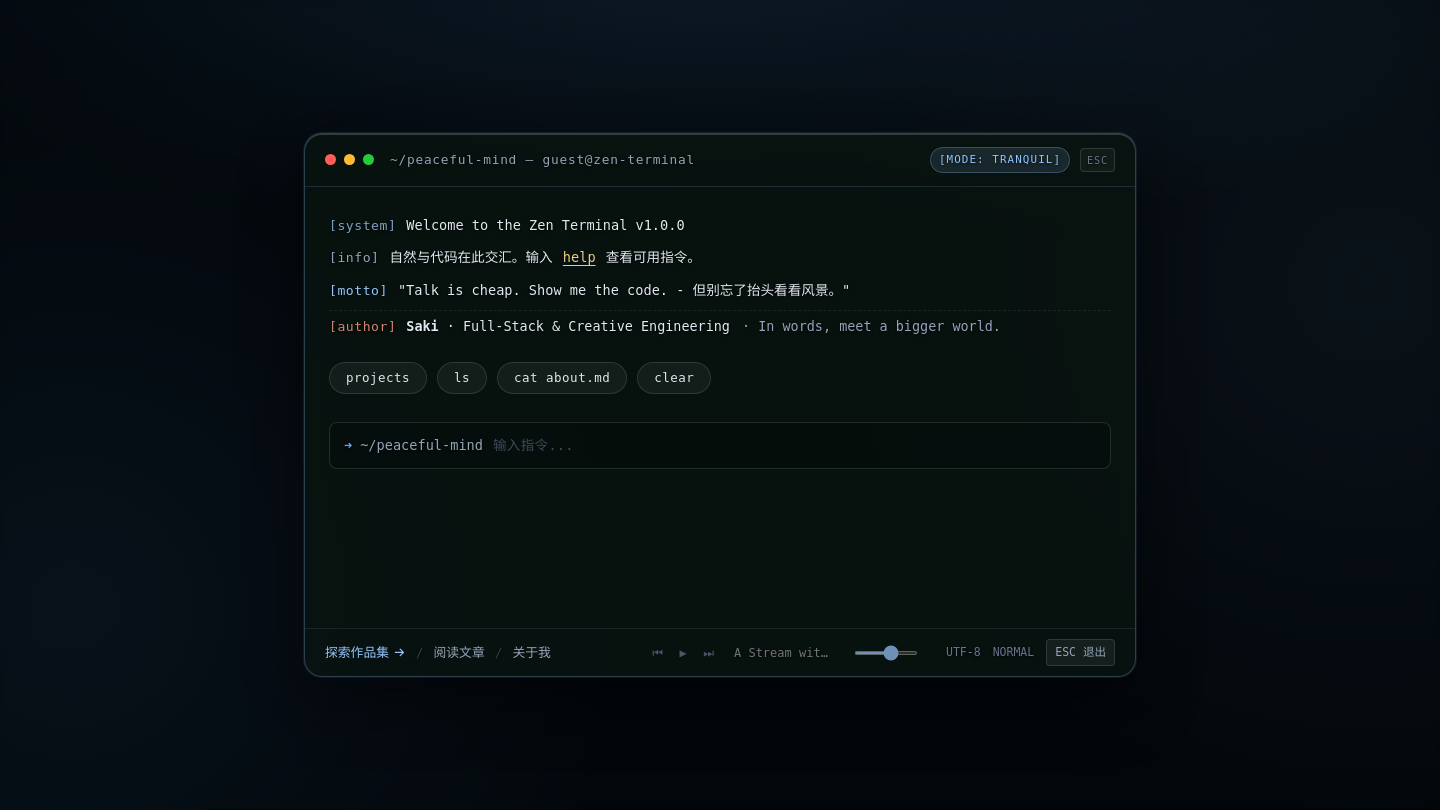
ZenTerminalModal › renders articles when ls command is executed
Type "ls" into the field with class "cli-field" at (794, 445), box [493,433,1096,458]
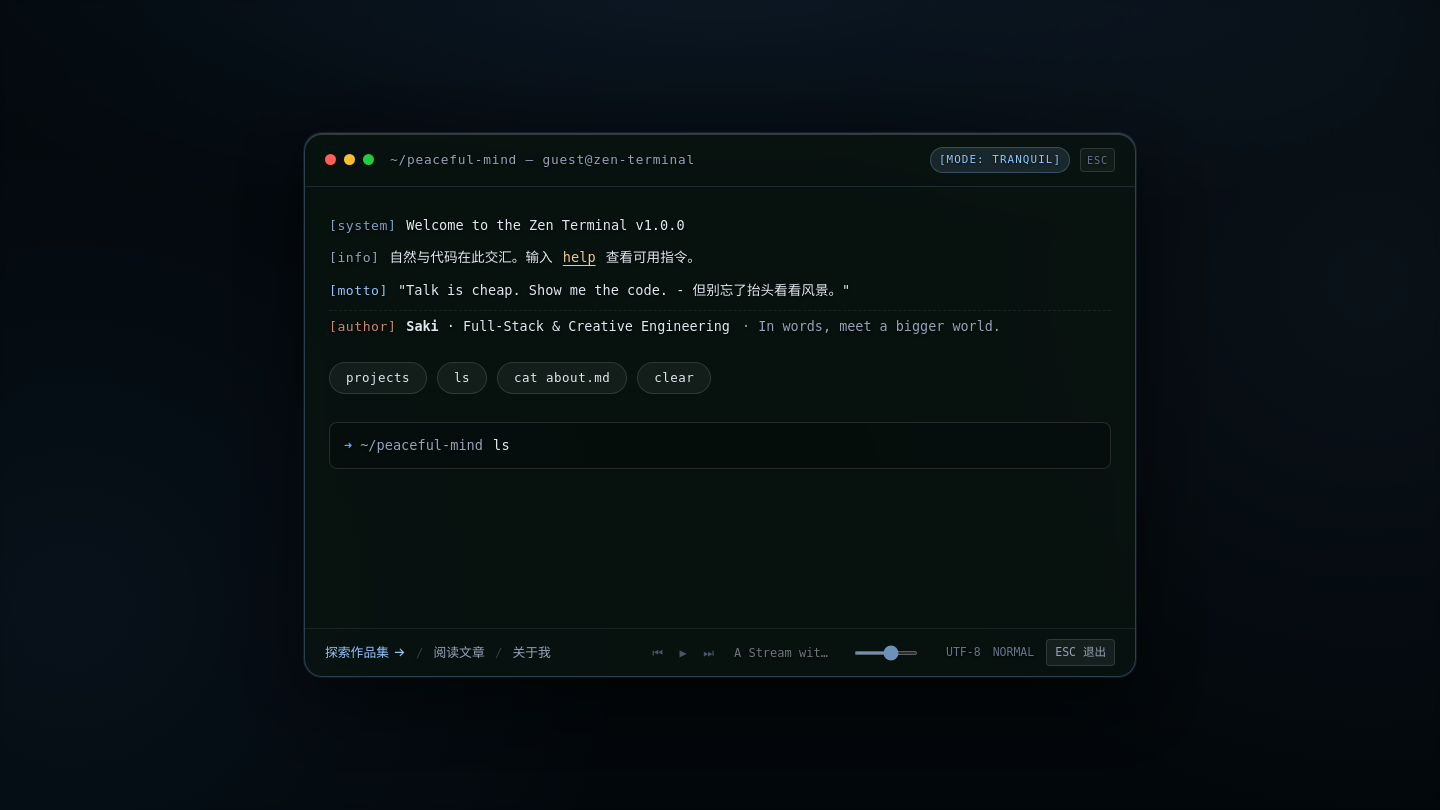
Submit the form with class "cli-input-row", box [329,422,1111,469]
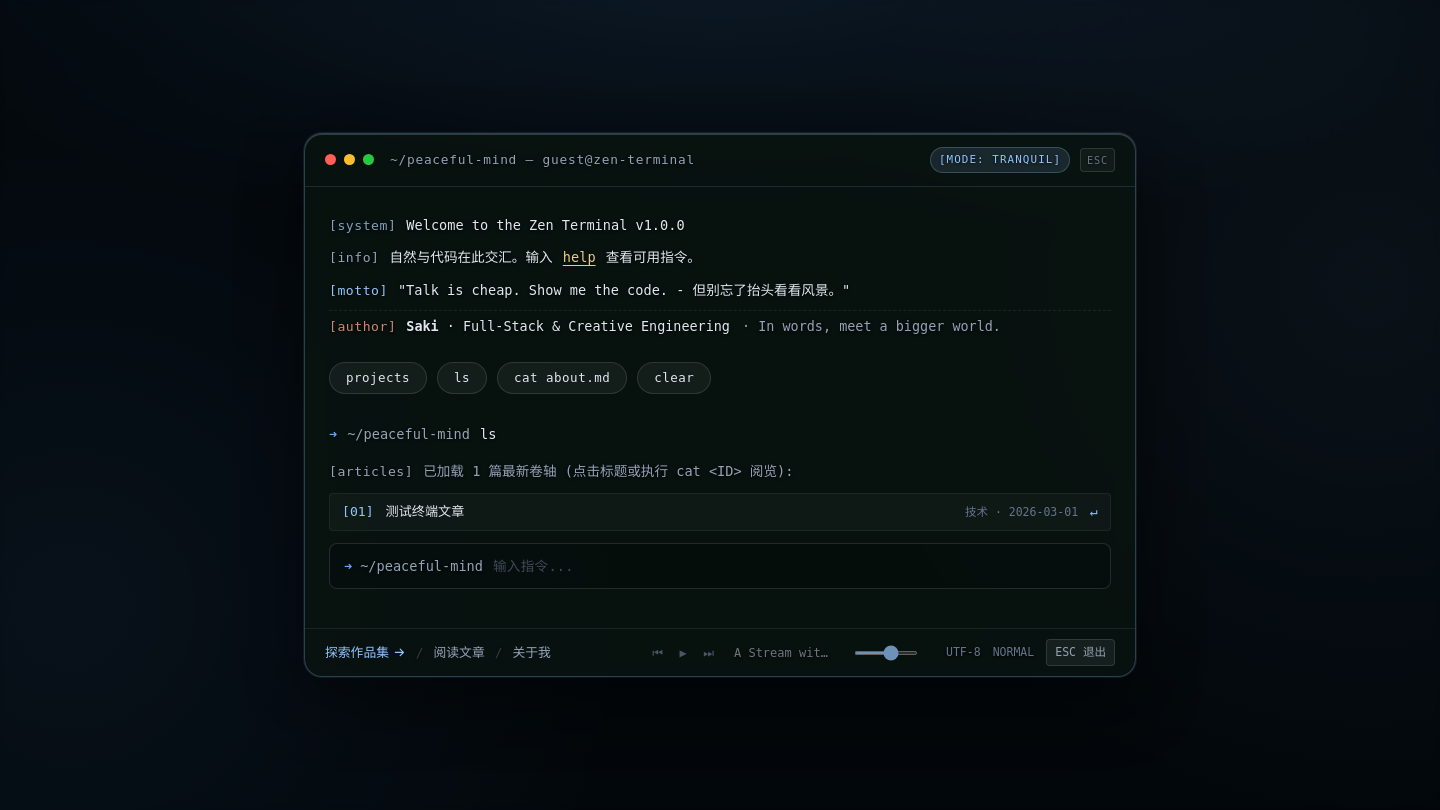
Check: the text "测试终端文章" is shown, box [386,504,464,519]
